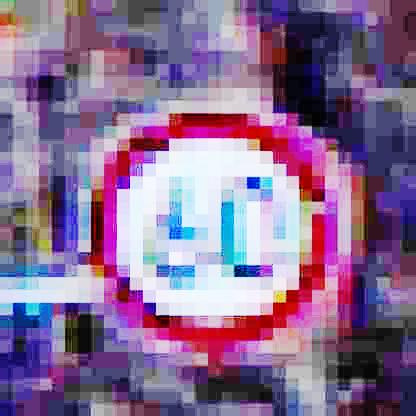Speed Limit -60-: (73, 96, 359, 354)
